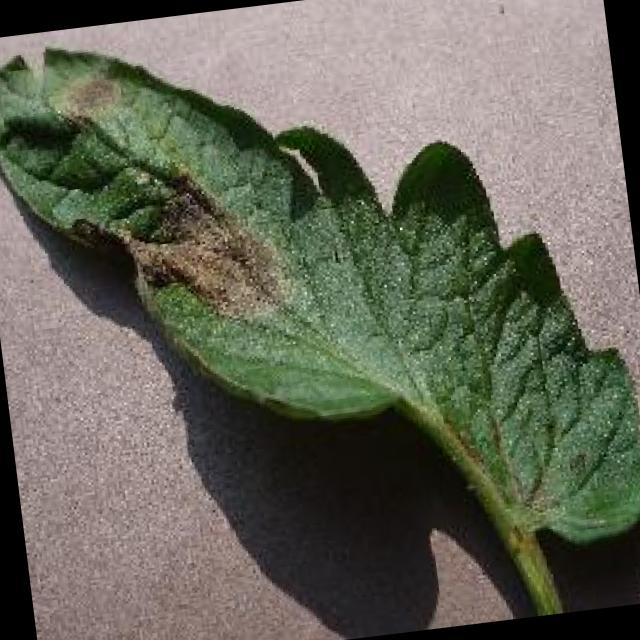Tomato_Late_Blight: (0, 20, 294, 368)
